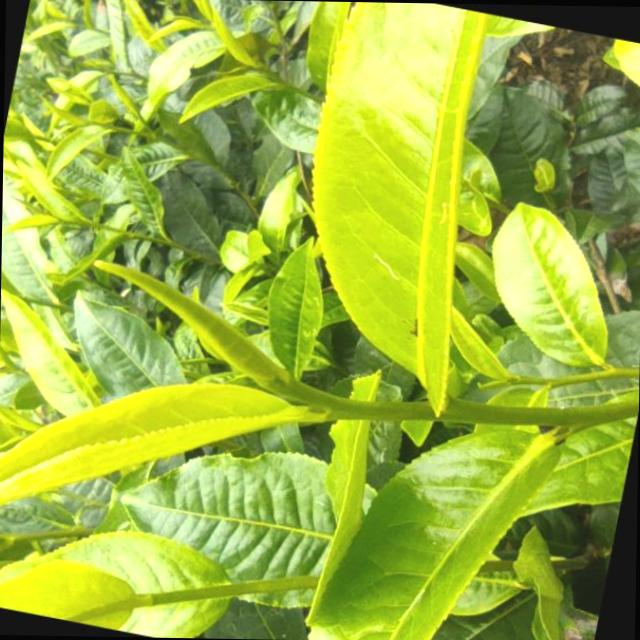Stem: (326, 396, 354, 419), (259, 67, 264, 73), (92, 221, 97, 226), (116, 126, 122, 130)
